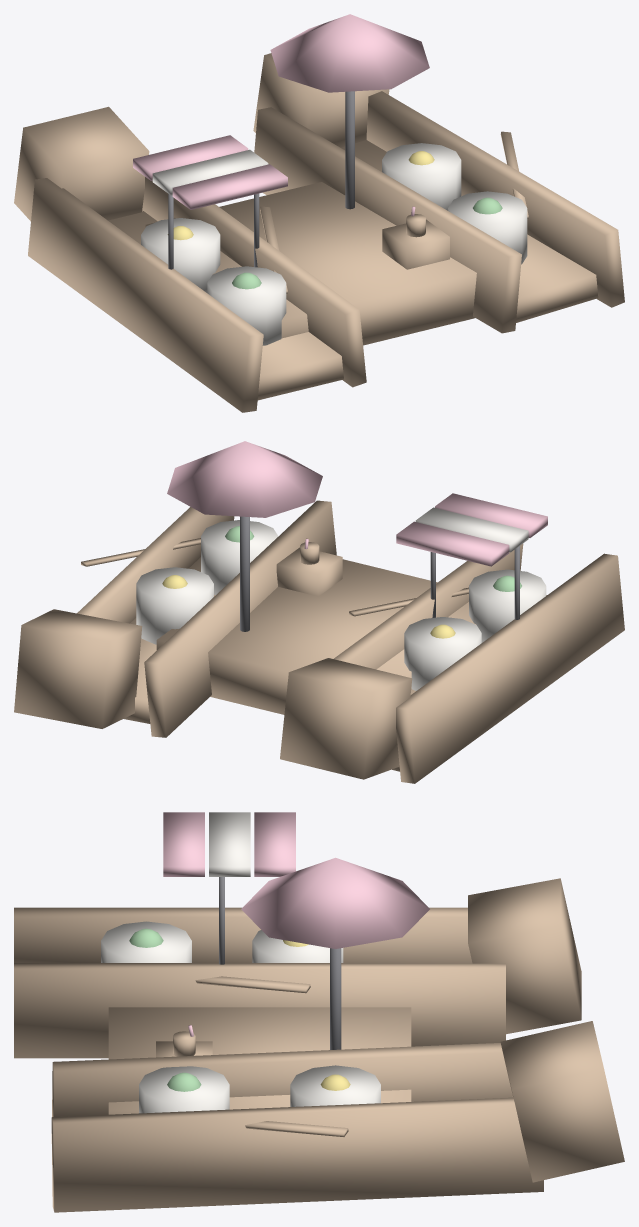
Rendered from floating_market_lv2.glb.
The picture shows the model from 3 angles, top to bottom: view 1: azimuth 30°, elevation 25°; view 2: azimuth 150°, elevation 25°; view 3: azimuth 270°, elevation 25°; orthographic projection. The views are drawn at different scales.
Visible parts, largest first — view 1: canoe1_wall_l, pier, canoe2_wall_l, canoe2_wall_r, canoe1_bow, umbrella_top, canoe1_wall_r, canoe2_floor, canoe1_floor, canoe2_bow, canoe1_bsk1, canoe2_bsk2 (+7 smaller); view 2: canoe1_wall_l, pier, canoe2_bow, canoe1_bow, canoe2_wall_l, umbrella_top, canoe2_wall_r, canoe1_wall_r, canoe2_bsk2, canoe1_bsk2, canoe1_bsk1, canoe2_bsk1 (+8 smaller); view 3: canoe2_wall_r, canoe1_wall_r, canoe2_wall_l, canoe1_wall_l, pier, canoe2_bow, canoe1_bow, umbrella_top, canoe2_bsk1, canoe1_bsk1, canoe2_bsk2, canoe1_shade_str_0 (+7 smaller).
Boxes of the visible parts, <box> form: canoe1_wall_l: <box>28,178,263,412</box>; pier: <box>145,182,476,345</box>; canoe2_wall_l: <box>254,107,521,333</box>; canoe2_wall_r: <box>366,91,624,307</box>; canoe1_bow: <box>14,106,149,221</box>; umbrella_top: <box>270,14,429,92</box>; canoe1_wall_r: <box>142,177,366,387</box>; canoe2_floor: <box>341,140,598,322</box>; canoe1_floor: <box>108,211,343,400</box>; canoe2_bow: <box>253,53,389,147</box>; canoe1_bsk1: <box>207,266,286,345</box>; canoe2_bsk2: <box>382,143,461,210</box>; canoe1_wall_l: <box>396,553,624,783</box>; pier: <box>156,559,476,714</box>; canoe2_bow: <box>14,609,142,728</box>; canoe1_bow: <box>280,658,412,779</box>; canoe2_wall_l: <box>144,500,336,737</box>; umbrella_top: <box>167,441,322,517</box>; canoe2_wall_r: <box>77,507,234,623</box>; canoe1_wall_r: <box>334,543,523,669</box>; canoe2_bsk2: <box>136,567,213,644</box>; canoe1_bsk2: <box>404,617,481,690</box>; canoe1_bsk1: <box>469,569,546,642</box>; canoe2_bsk1: <box>201,520,278,595</box>; canoe2_wall_r: <box>51,1097,543,1212</box>; canoe1_wall_r: <box>14,963,505,1058</box>; canoe2_wall_l: <box>51,1043,512,1143</box>; canoe1_wall_l: <box>14,907,472,962</box>; pier: <box>108,1007,411,1114</box>; canoe2_bow: <box>500,1021,624,1182</box>; canoe1_bow: <box>468,878,581,1034</box>; umbrella_top: <box>241,857,429,948</box>; canoe2_bsk1: <box>139,1066,229,1113</box>; canoe1_bsk1: <box>101,921,191,962</box>; canoe2_bsk2: <box>290,1065,380,1106</box>; canoe1_shade_str_0: <box>163,812,204,876</box>.
Size of the model in its own units: 1.44 by 0.795 by 1.61.
